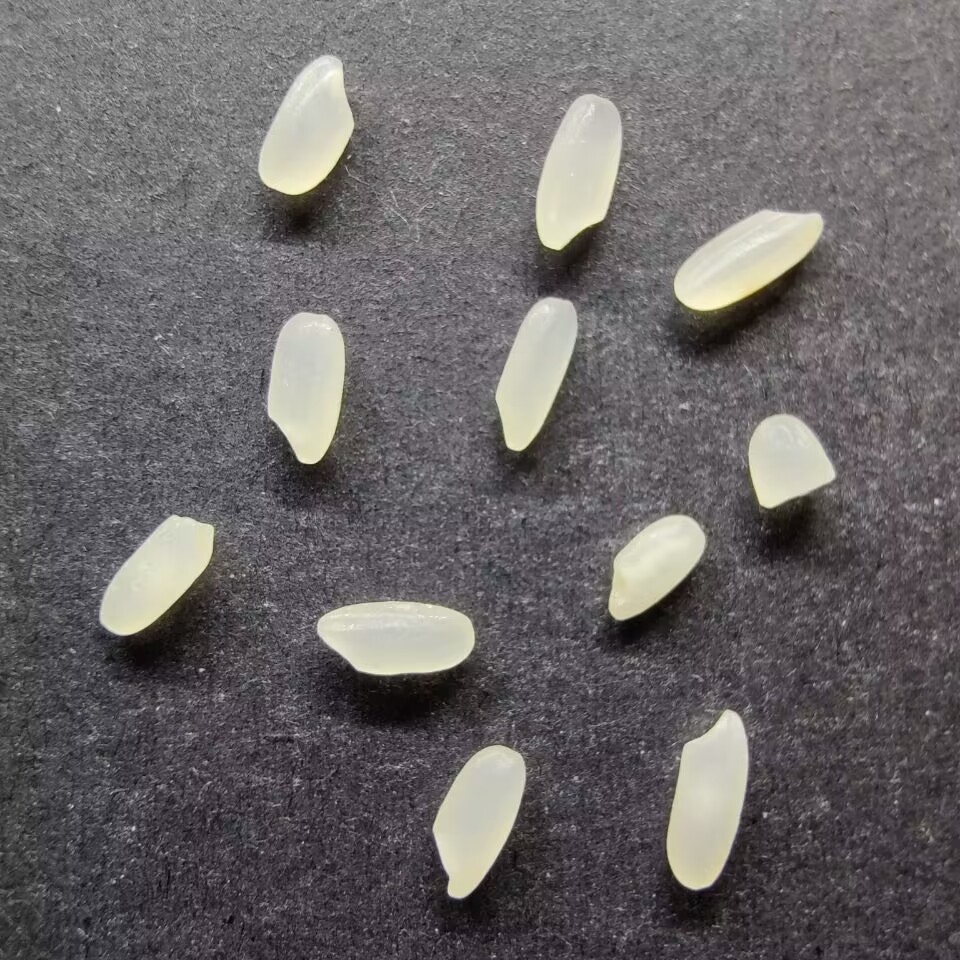broken: (746, 410, 839, 510)
rice: (671, 208, 828, 313), (663, 706, 748, 891), (430, 742, 528, 899), (95, 514, 216, 637), (255, 51, 355, 198), (532, 92, 624, 250), (492, 295, 579, 453), (262, 310, 346, 468), (314, 599, 476, 676), (606, 512, 710, 625)
